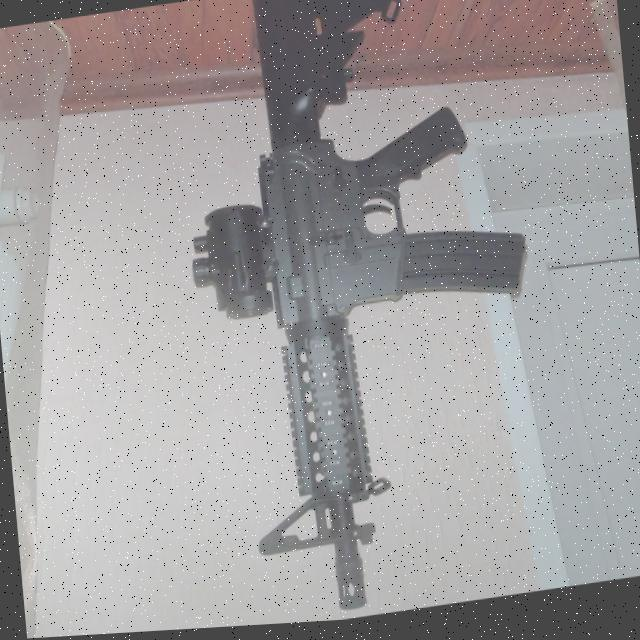firearm: (165, 0, 555, 632)
